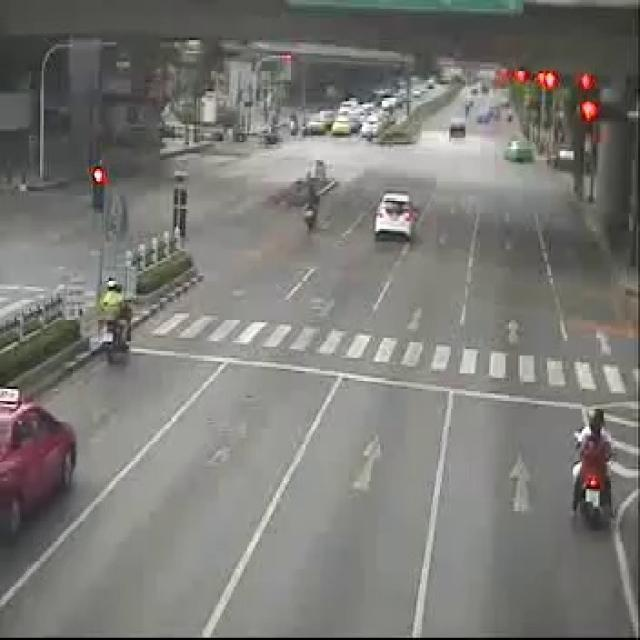car: (0, 386, 74, 538), (373, 192, 416, 236)
motobike: (570, 407, 610, 526), (96, 276, 129, 362)
red_light: (88, 157, 107, 212), (492, 63, 533, 83), (533, 72, 563, 88), (578, 101, 598, 121), (577, 74, 595, 92)
stop_line: (123, 341, 580, 410)
